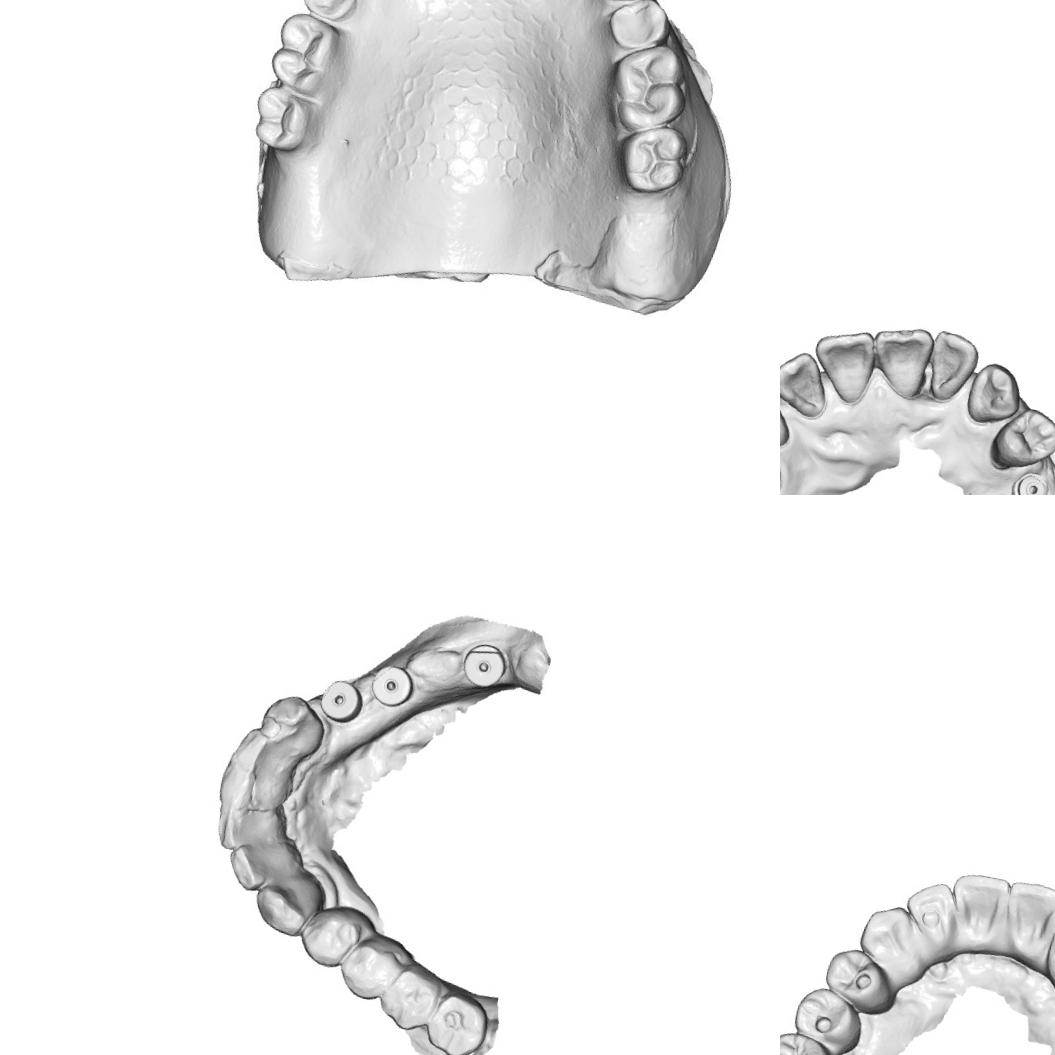canine: (852, 898, 934, 988), (249, 865, 329, 942), (255, 688, 329, 756), (962, 358, 1026, 429), (780, 385, 797, 454)
implant: (458, 638, 509, 690), (317, 674, 365, 725), (368, 662, 416, 710), (1006, 467, 1052, 495)
incisor: (804, 321, 881, 408), (940, 868, 1011, 957), (862, 319, 936, 402), (996, 877, 1055, 969), (222, 722, 301, 786), (210, 798, 288, 862), (920, 328, 982, 408), (222, 834, 297, 899), (214, 763, 286, 820), (780, 345, 834, 420), (900, 876, 960, 943), (1039, 900, 1055, 996)
molar: (598, 34, 690, 140), (262, 5, 342, 96), (612, 116, 689, 199), (244, 79, 319, 158), (372, 960, 445, 1036), (419, 986, 492, 1055), (780, 1026, 843, 1055)
premolar: (819, 944, 902, 1018), (332, 929, 408, 1007), (786, 982, 867, 1055), (294, 896, 367, 973), (985, 401, 1055, 480), (601, 0, 675, 57), (296, 0, 359, 28)
